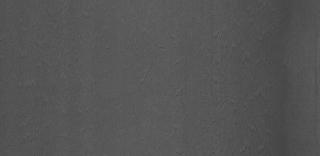silk spot: (201, 75, 275, 122), (192, 22, 252, 68)
